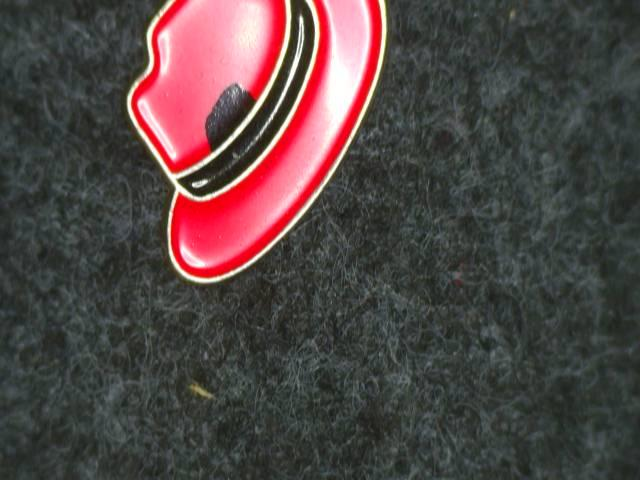Red-Hat: (116, 0, 417, 313)
Scratch: (190, 70, 282, 164)
